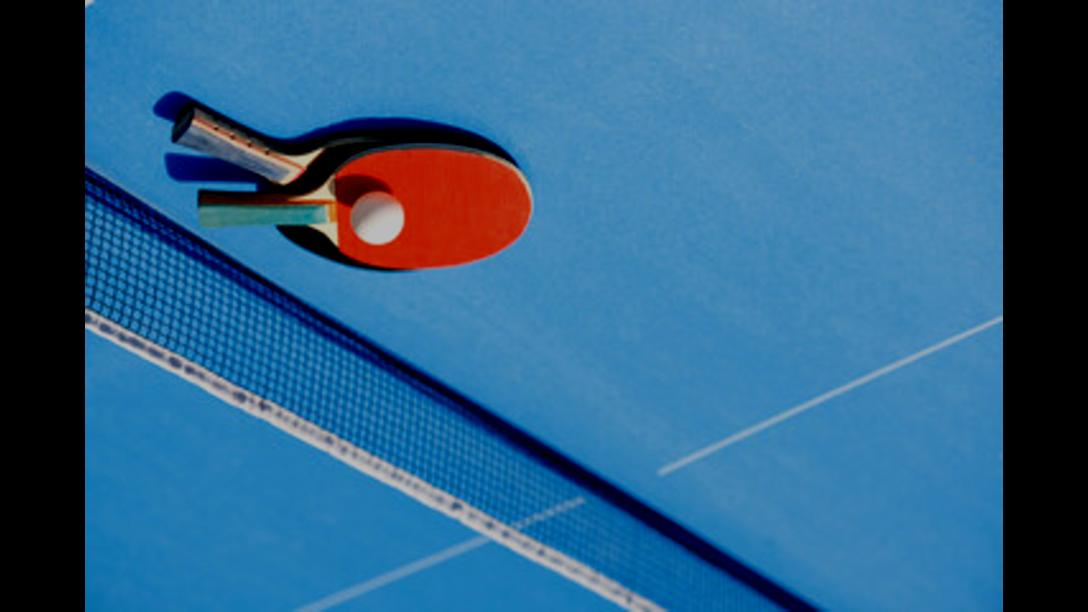Table-Tennis-Ball: (352, 194, 404, 245)
